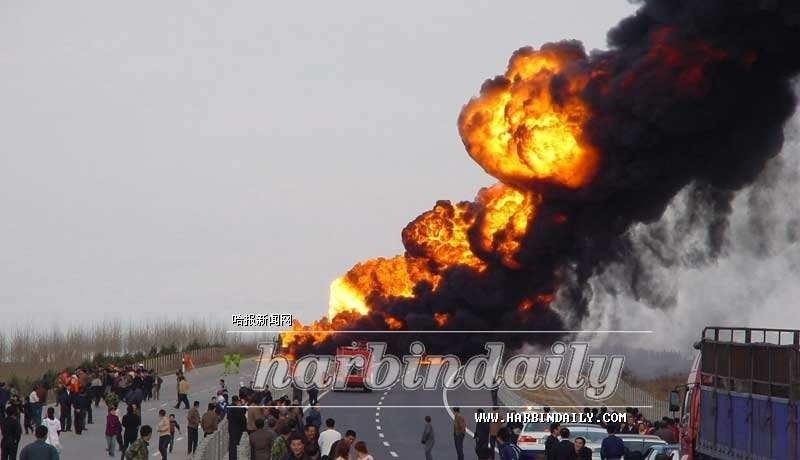fire: (296, 28, 601, 332)
